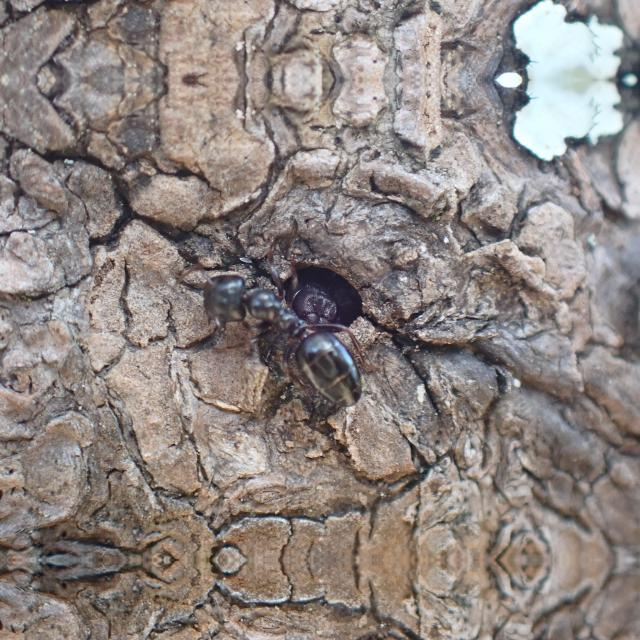Colobopsis: (174, 243, 396, 419), (274, 262, 360, 334)
